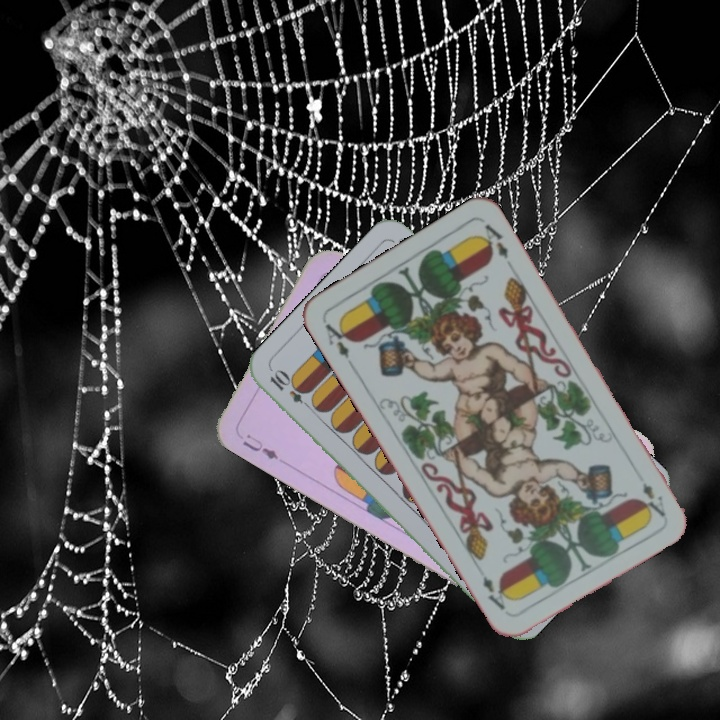E10: (265, 366, 317, 413)
EA: (320, 317, 355, 362), (638, 478, 668, 520)
EU: (238, 429, 281, 462)
